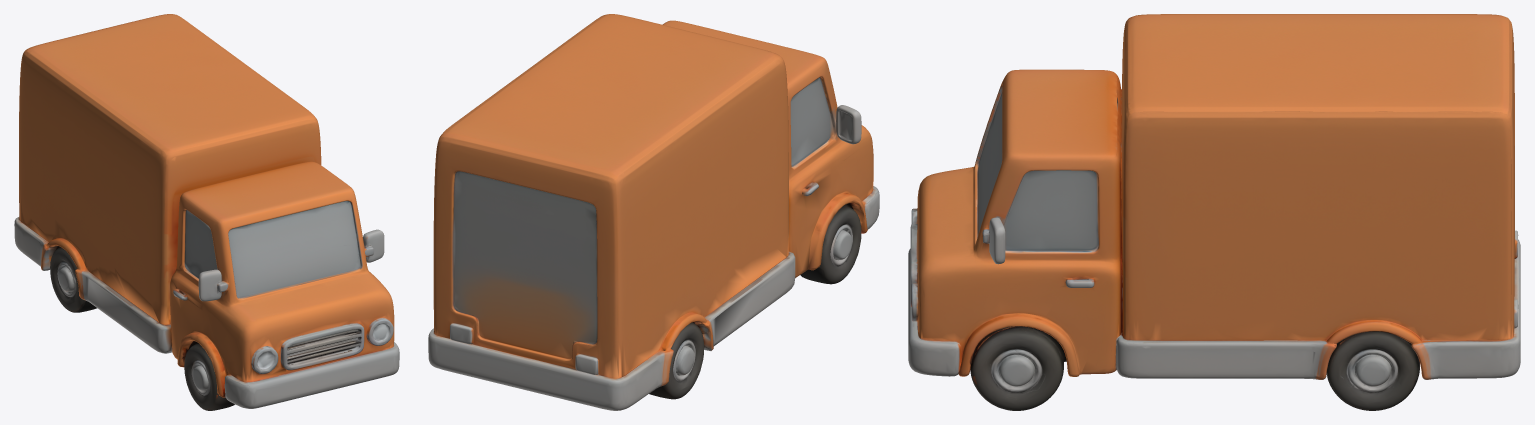
Rendered from truck5.glb.
3 views of the same model, side by side, from view 1: azimuth 30°, elevation 25°; view 2: azimuth 150°, elevation 25°; view 3: azimuth 270°, elevation 25° (orthographic). The views are drawn at different scales.
Parts seen in each view (by area): view 1: texture_pbr_v128; view 2: texture_pbr_v128; view 3: texture_pbr_v128.
Part boxes in pixels (x1=…): texture_pbr_v128: x1=14, y1=14, x2=399, y2=410; texture_pbr_v128: x1=428, y1=14, x2=879, y2=410; texture_pbr_v128: x1=908, y1=14, x2=1520, y2=410.
Bounding box in the file's own units: 0.3751 × 0.4393 × 0.8135.
1 material, 1 textured.
